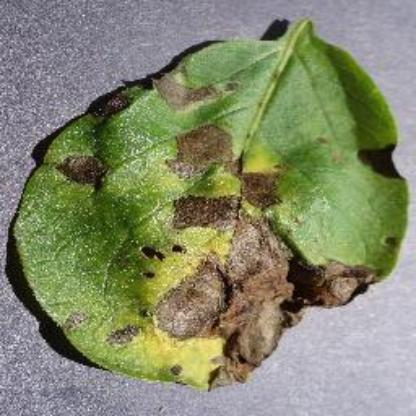Early-Blight: (9, 18, 409, 390)
